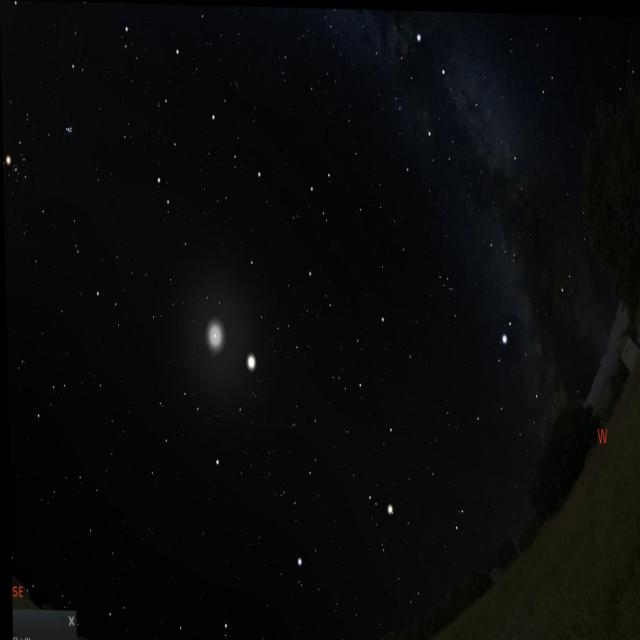aquila: (470, 314, 550, 456)
cygnus: (407, 9, 521, 166)
lyra: (528, 11, 562, 111)
moon: (184, 296, 241, 382)
pleiades: (58, 110, 77, 144)
taurus: (2, 99, 82, 219)
